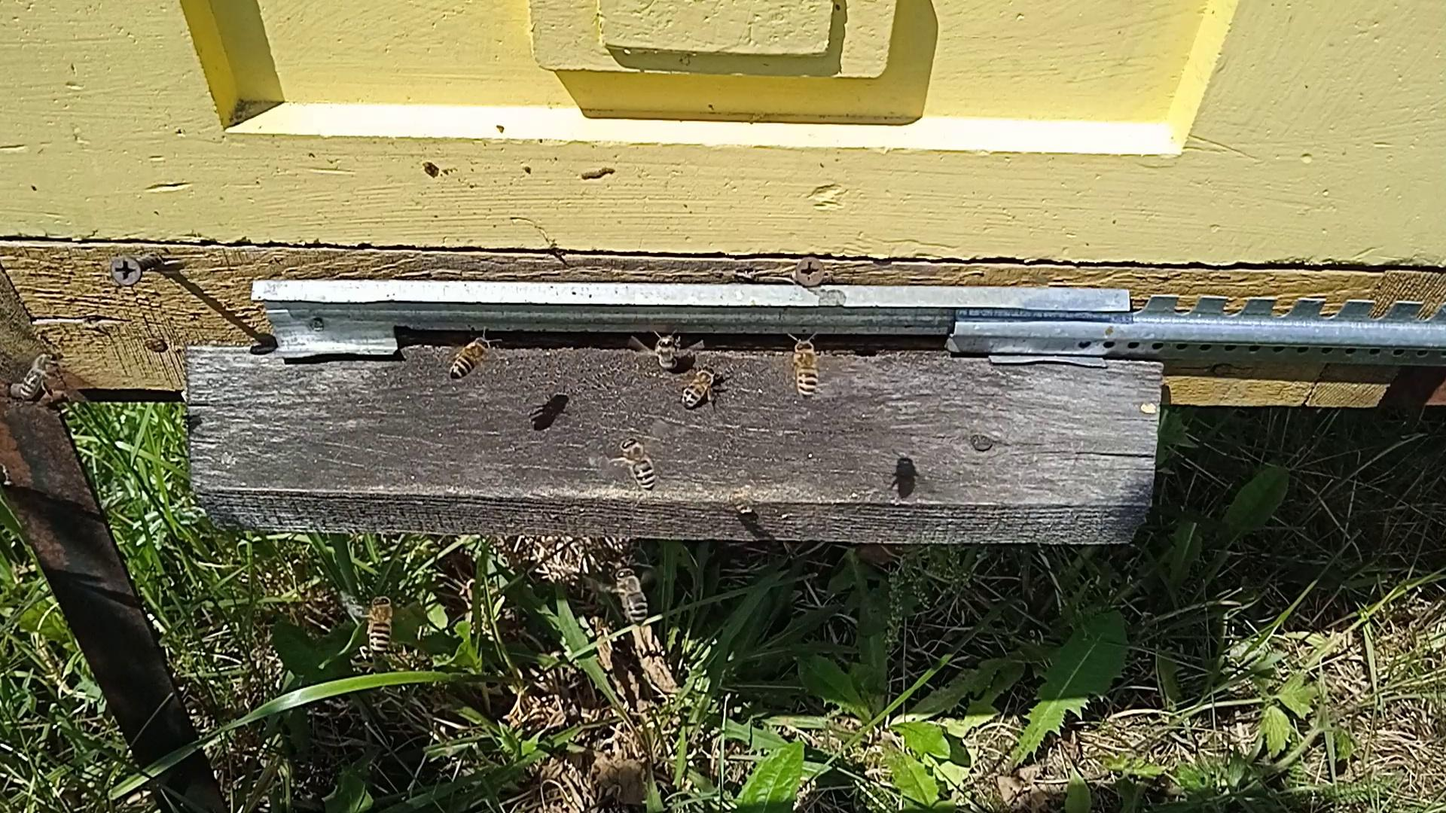worker-bee: (612, 565, 649, 624), (446, 336, 494, 381), (619, 436, 657, 492), (791, 336, 822, 400), (20, 349, 60, 398), (365, 594, 395, 657), (681, 364, 719, 409), (651, 332, 686, 373)
